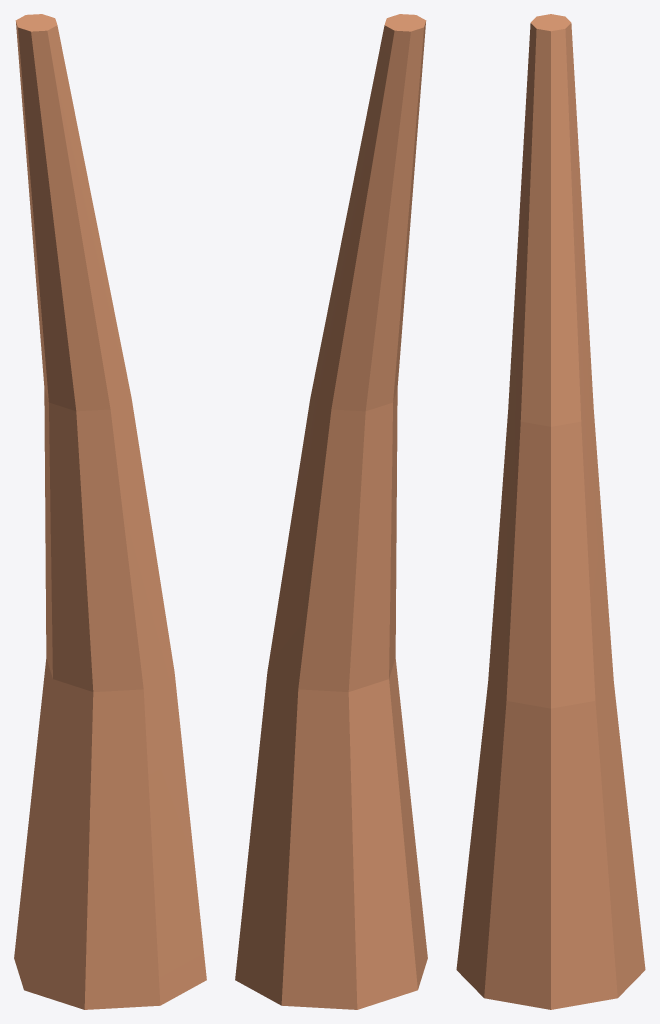
Rendered from Tree_2.fbx.
3 views of the same model, side by side, from view 1: azimuth 30°, elevation 25°; view 2: azimuth 150°, elevation 25°; view 3: azimuth 270°, elevation 25° (orthographic). The views are drawn at different scales.
Parts seen in each view (by area): view 1: Tree_2; view 2: Tree_2; view 3: Tree_2.
Boxes of the visible parts, bbox=[...] form: Tree_2: bbox=[14, 14, 206, 1009]; Tree_2: bbox=[235, 14, 427, 1009]; Tree_2: bbox=[456, 14, 645, 1009].
Size of the model in its own units: 130 by 669 by 126.
